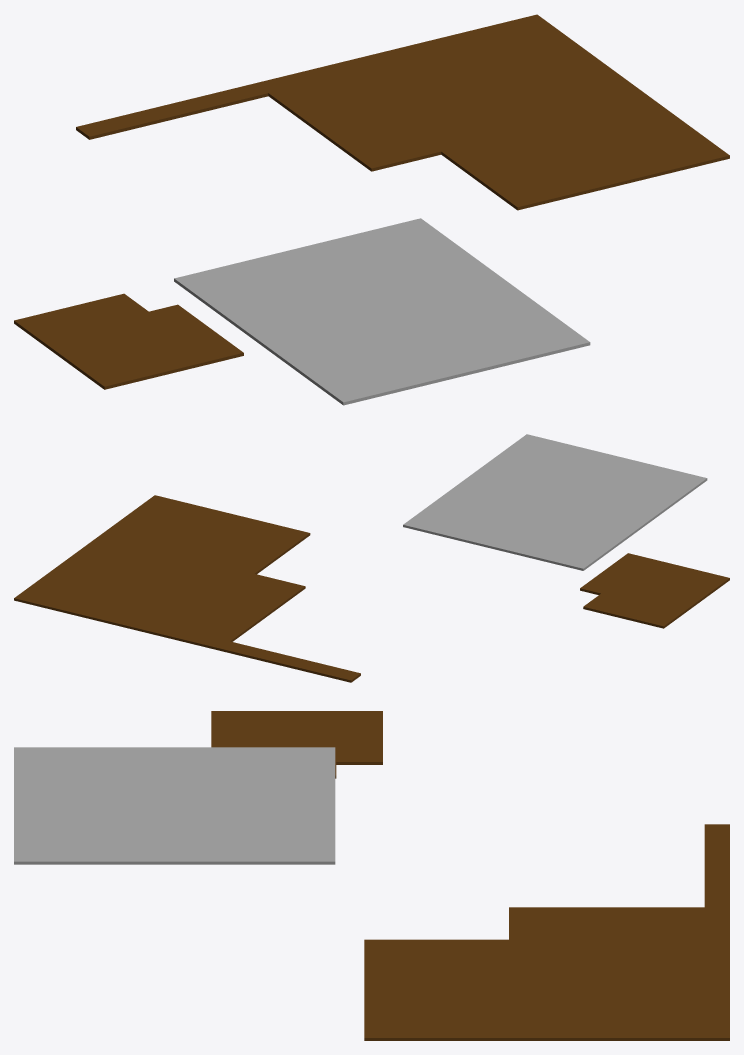
The model's file is house_ds_roof_02.fbx.
The picture shows the model from 3 angles, top to bottom: view 1: azimuth 30°, elevation 25°; view 2: azimuth 150°, elevation 25°; view 3: azimuth 270°, elevation 25°; orthographic projection. The views are drawn at different scales.
Visible parts, largest first — view 1: polySurface5136; view 2: polySurface5136; view 3: polySurface5136.
Boxes of the visible parts, x1,y1,x2,y2 form: polySurface5136: [14, 14, 729, 405]; polySurface5136: [14, 434, 729, 682]; polySurface5136: [14, 711, 729, 1040].
Size of the model in its own units: 23.53 by 0.975 by 21.78.
